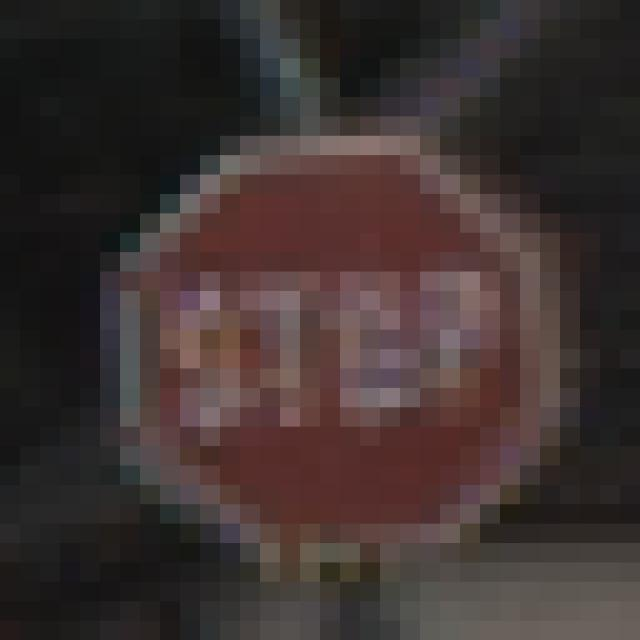STOP: (101, 117, 521, 544)
